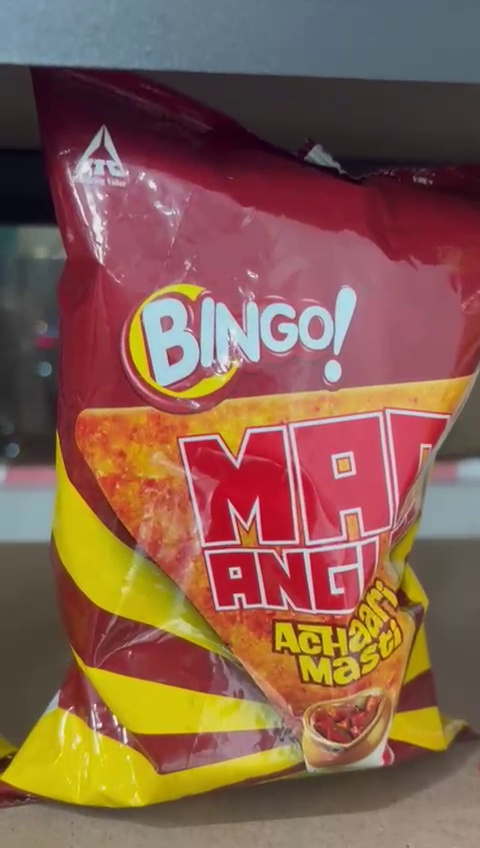Bingo Mad Angles: (15, 70, 480, 798)
